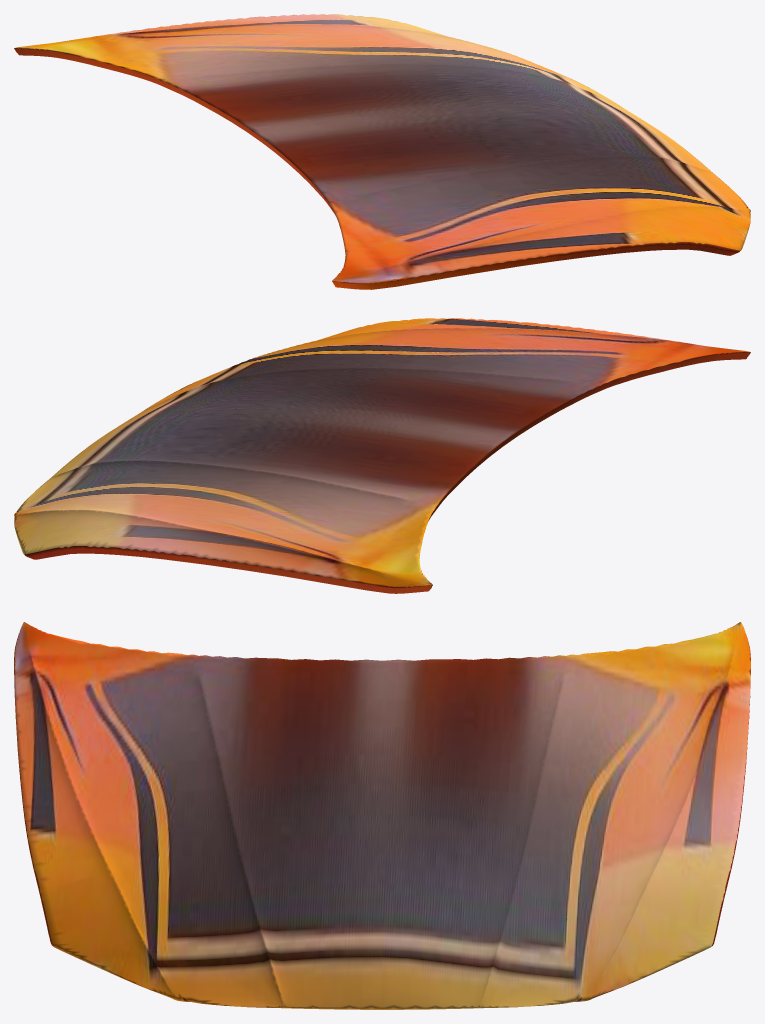
File: cofre_texture.obj
3 views of the same model, one above another, from view 1: azimuth 30°, elevation 25°; view 2: azimuth 150°, elevation 25°; view 3: azimuth 270°, elevation 25° (orthographic). The views are drawn at different scales.
Visible parts, largest first — view 1: cofre; view 2: cofre; view 3: cofre.
Part boxes in pixels (x1,y1,x2,y2): cofre: (14, 14, 750, 289); cofre: (14, 318, 750, 593); cofre: (14, 622, 750, 1009).
Bounding box in the file's own units: 6.4 × 1.32 × 7.22.
